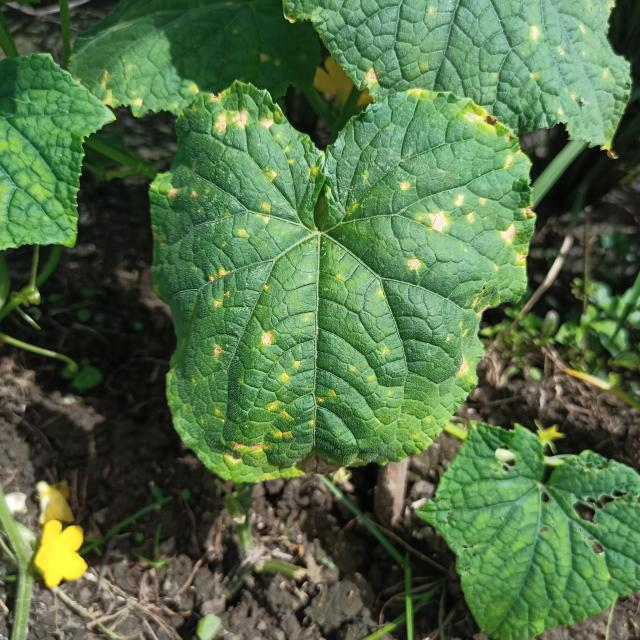disease_cucumber: (160, 96, 534, 473), (527, 22, 596, 122)
